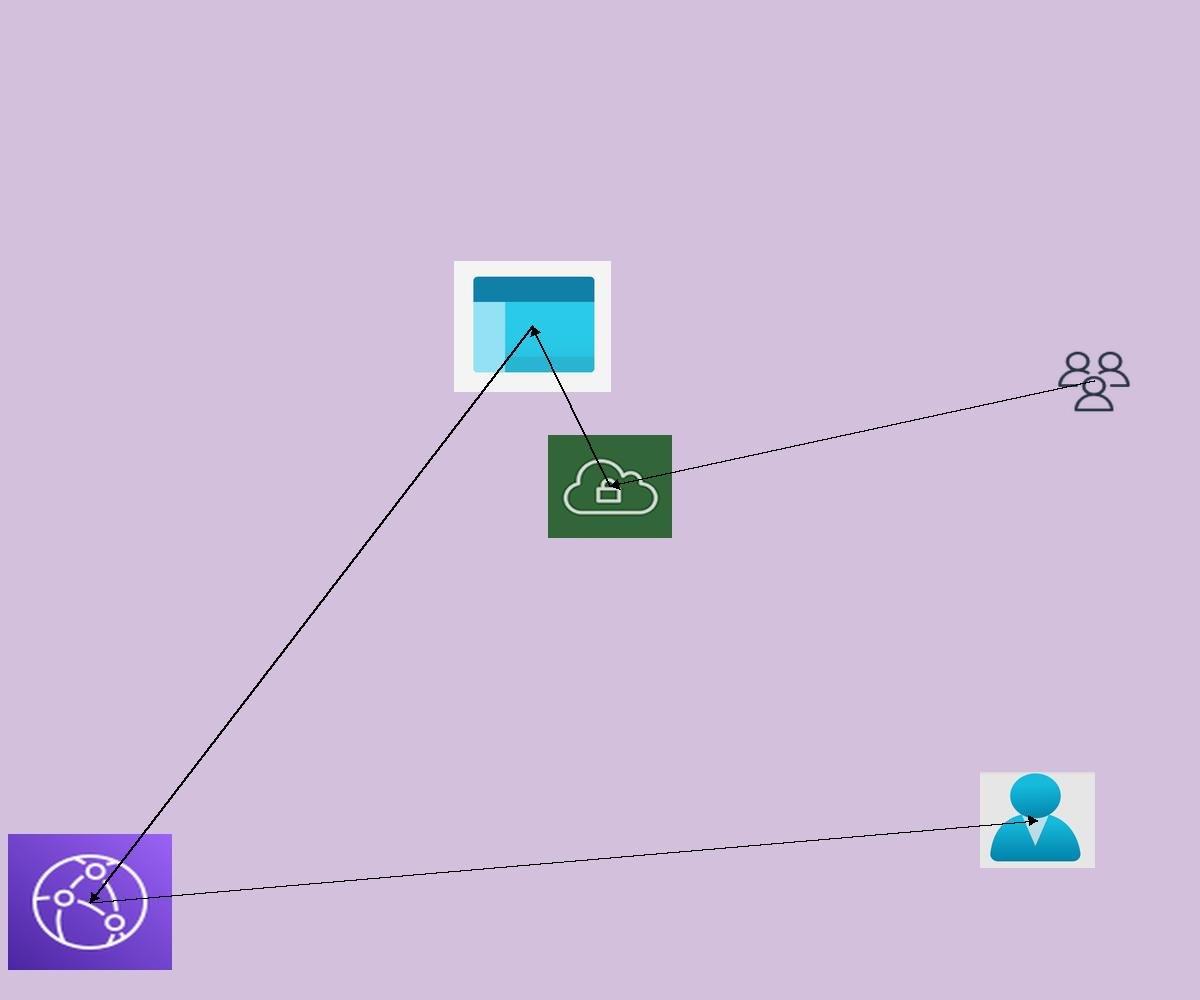AWS-CloudFront: (8, 834, 172, 970)
AWS-Private_vpc: (548, 435, 672, 538)
AWS-Res_Users: (1055, 349, 1133, 414)
Azure_management-portal: (454, 261, 611, 392)
Azure_users: (980, 772, 1095, 868)
